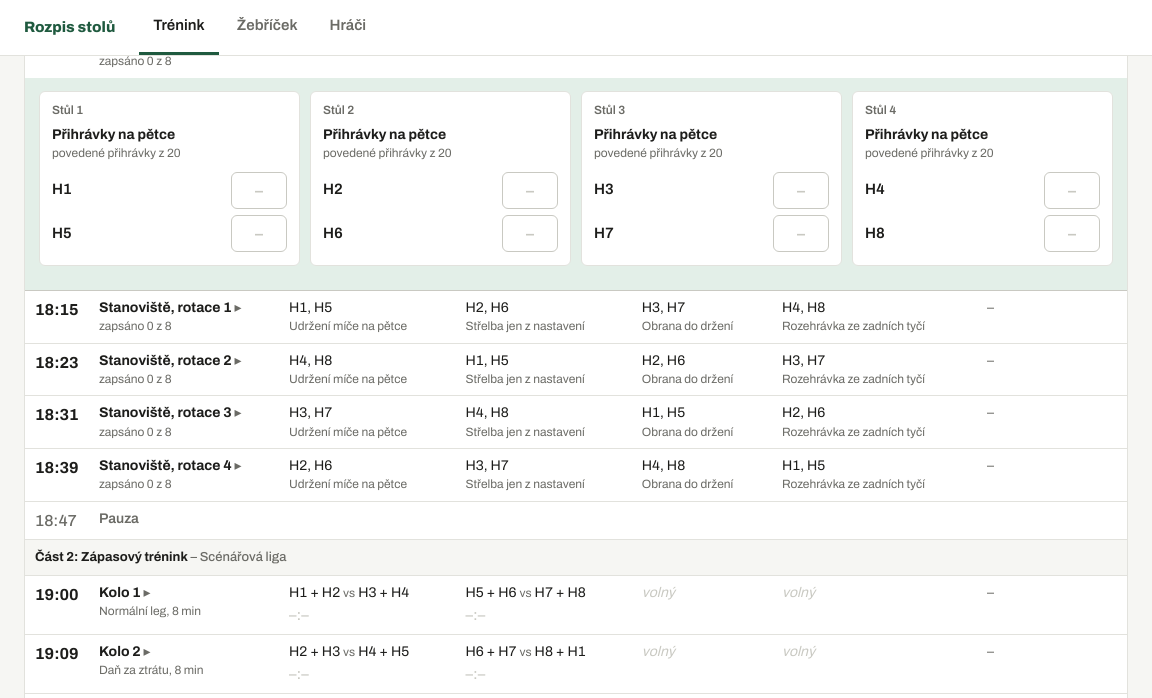
Test: tabulka tréninku › zápis stanoviště: rotace 2, stůl 1 = H4 na pětce; nad max se nepřijme
The image size is (1152, 698).
(page scrolled)
Click the button "Stanoviště, rotace 2".
click(170, 361)  # box top-left (99, 351), bottom-right (242, 371)
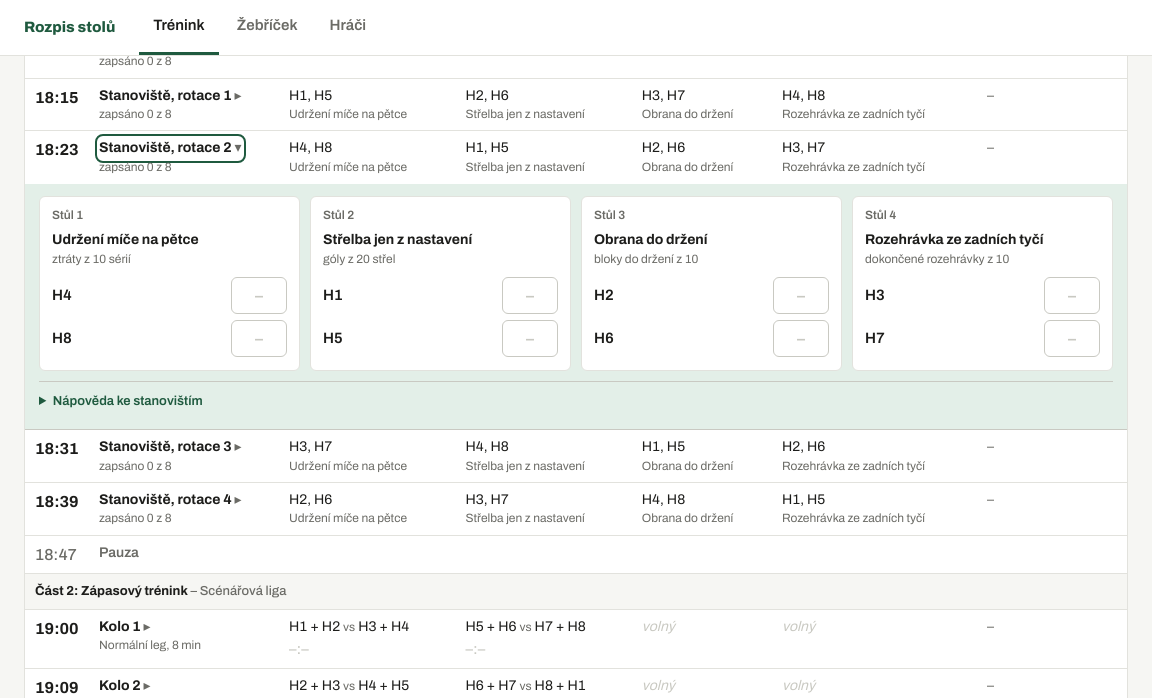
Type "3" into the number field named "Stanoviště, rotace 2, stůl 1: H4".
click(259, 296); type("3")  # box top-left (231, 277), bottom-right (287, 314)
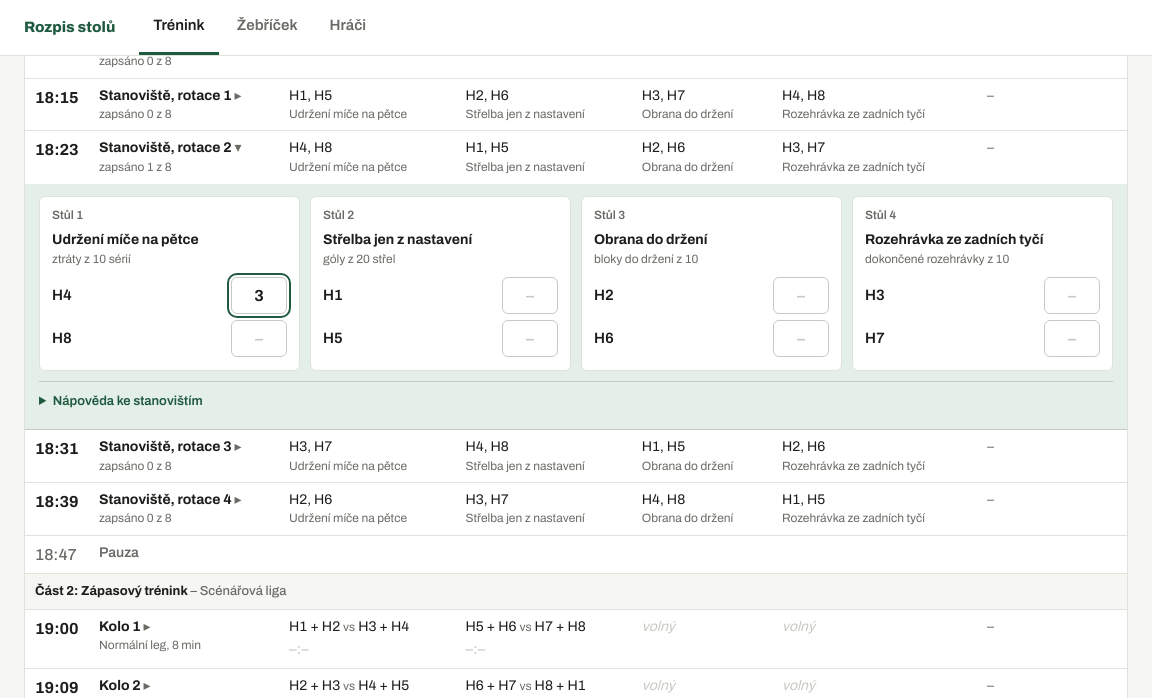
Replace the text in the number field named "Stanoviště, rotace 2, stůl 1: H4" with "11" at (259, 296), box top-left (231, 277), bottom-right (287, 314)
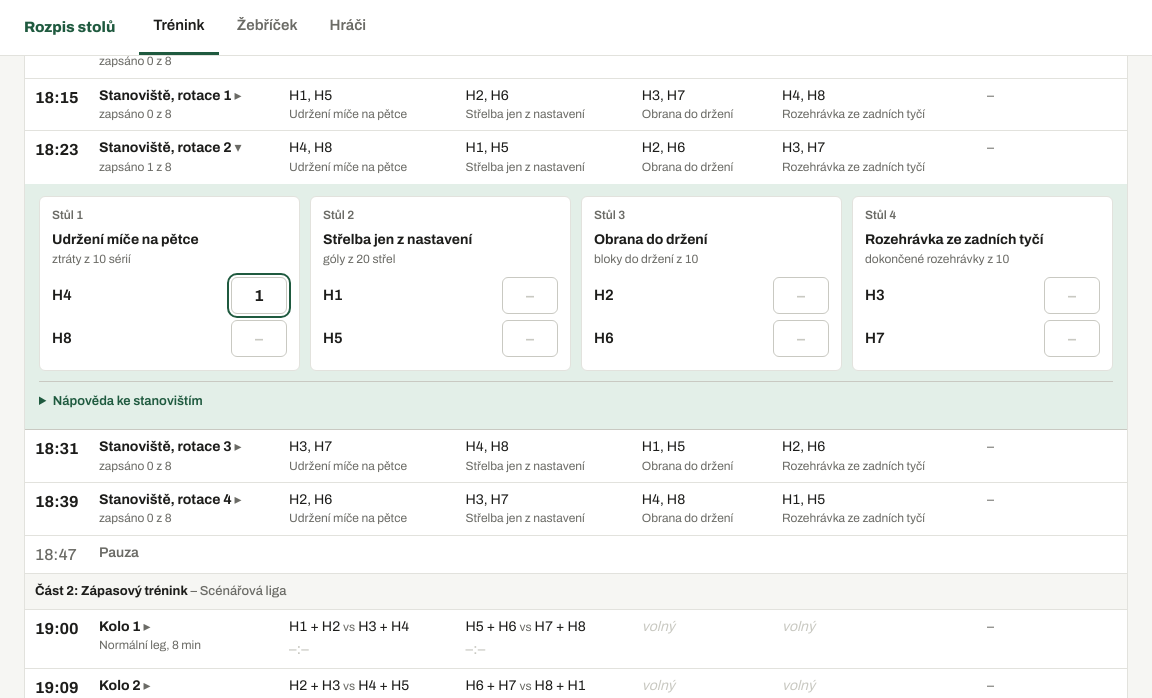
Expected: the row "Stanoviště, rotace 2" shows "zapsáno 1 z 8", top-left (99, 160), bottom-right (172, 174)
Expected: the number field named "Stanoviště, rotace 2, stůl 1: H4" holds "1", top-left (231, 277), bottom-right (287, 314)
